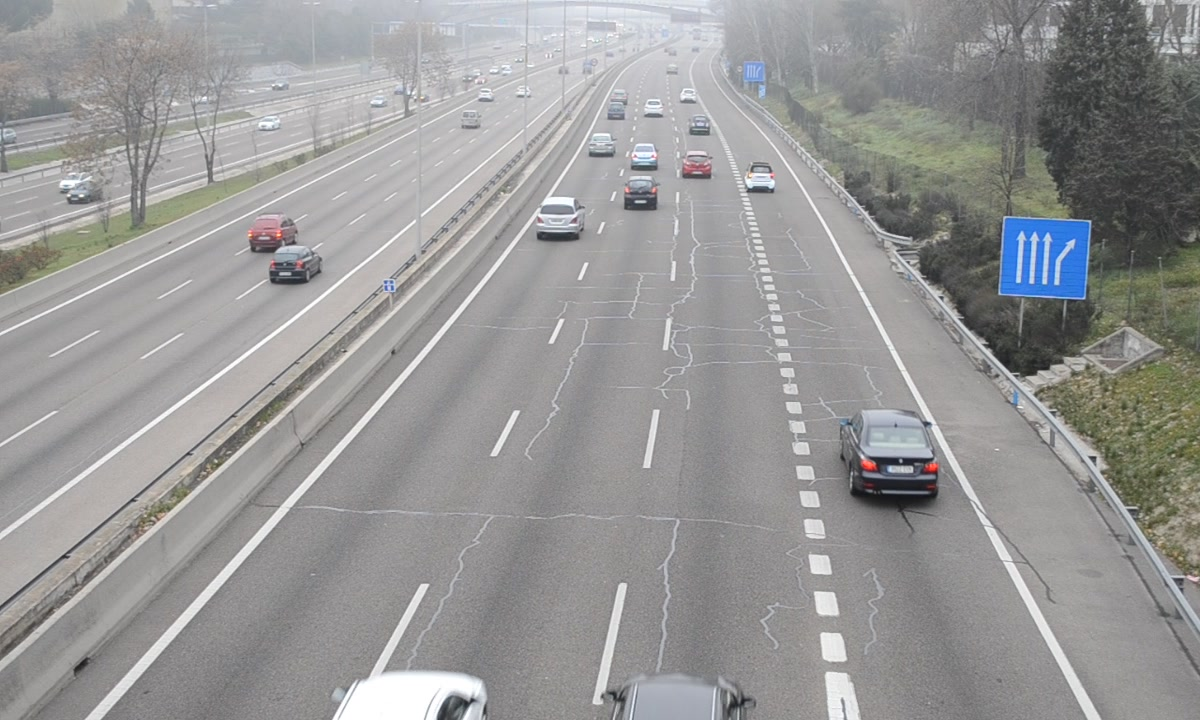car: (837, 410, 943, 493), (532, 196, 586, 240), (621, 176, 659, 213), (744, 160, 777, 194), (681, 150, 714, 182), (629, 142, 659, 171), (586, 132, 617, 158), (688, 114, 711, 137)
